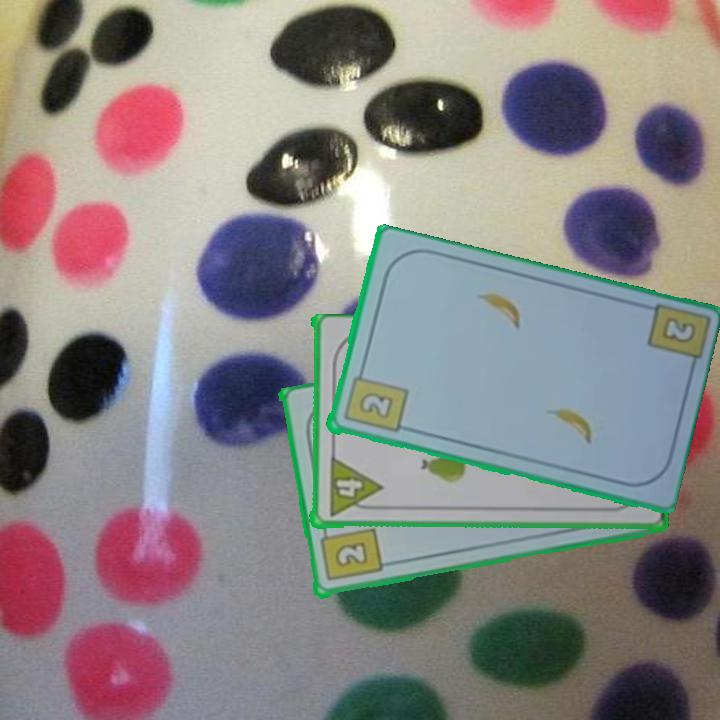2b: (340, 364, 410, 436), (316, 523, 384, 585), (657, 313, 699, 347)
4p: (325, 455, 383, 520)
